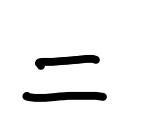eqv: (18, 54, 111, 103)
